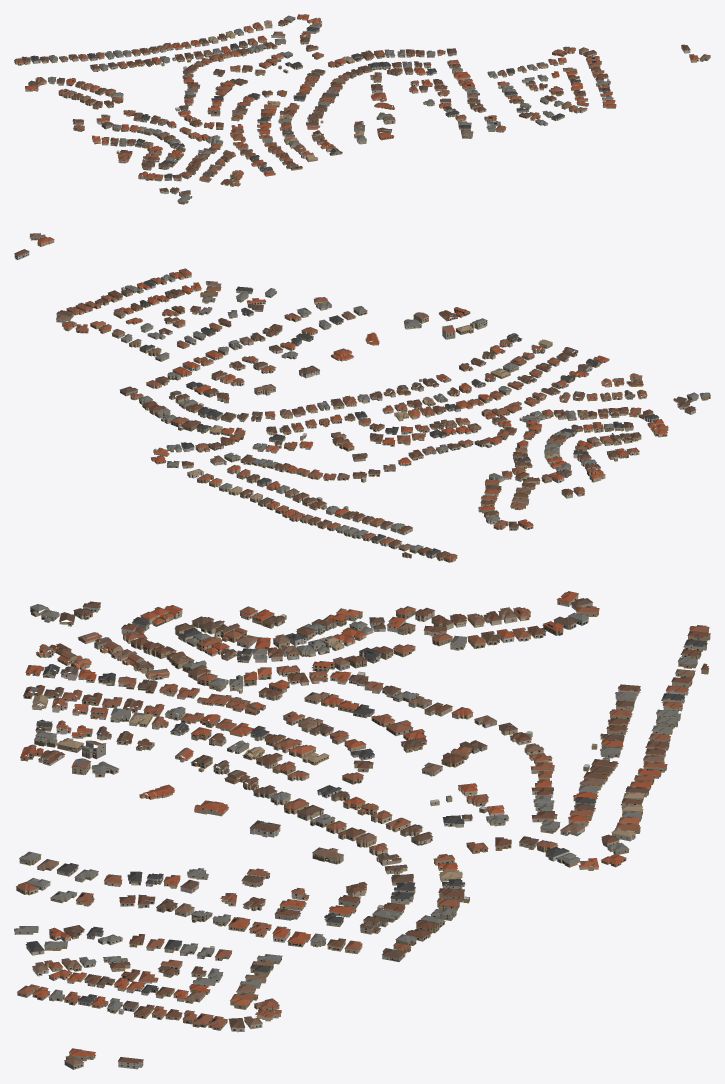
3 views of the same model, one above another, from view 1: azimuth 30°, elevation 25°; view 2: azimuth 150°, elevation 25°; view 3: azimuth 270°, elevation 25° (orthographic). The views are drawn at different scales.
Visible parts, largest first — view 1: buildings_r0_c7_lod0; view 2: buildings_r0_c7_lod0; view 3: buildings_r0_c7_lod0.
Boxes of the visible parts, x1,y1,x2,y2 form: buildings_r0_c7_lod0: (14,14,710,204); buildings_r0_c7_lod0: (14,233,710,562); buildings_r0_c7_lod0: (14,591,710,1069).
Size of the model in its own units: 1146 by 73.38 by 707.
